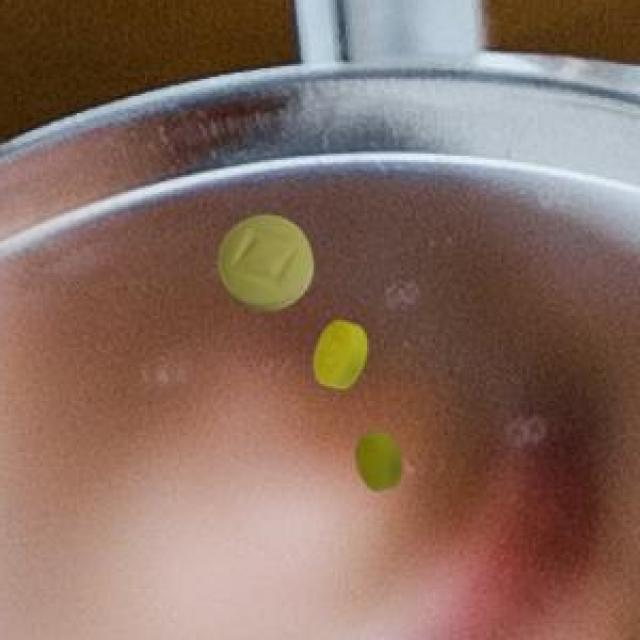Decolgen: (200, 208, 324, 311), (306, 315, 389, 400), (339, 424, 412, 504)
